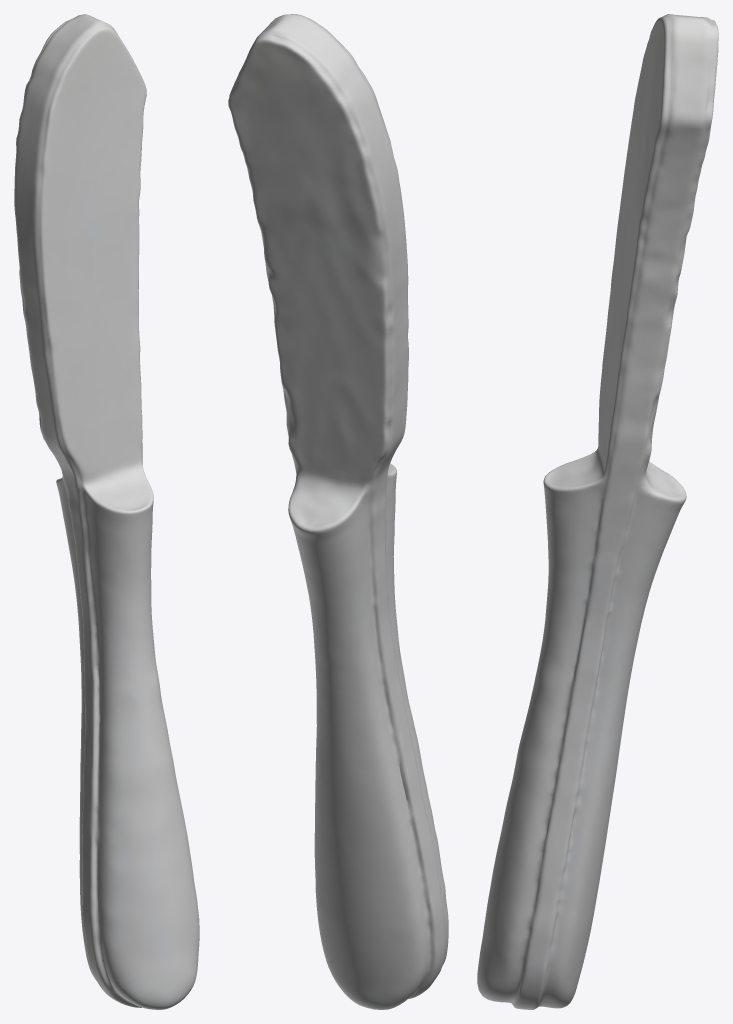
The model's file is model_butter_knife.glb.
3 views of the same model, side by side, from view 1: azimuth 30°, elevation 25°; view 2: azimuth 150°, elevation 25°; view 3: azimuth 270°, elevation 25° (orthographic). The views are drawn at different scales.
Parts seen in each view (by area): view 1: tripo_node_362d5ea6-0042-4c20-ab71-c20b0571da51; view 2: tripo_node_362d5ea6-0042-4c20-ab71-c20b0571da51; view 3: tripo_node_362d5ea6-0042-4c20-ab71-c20b0571da51.
Boxes of the visible parts, <box> form: tripo_node_362d5ea6-0042-4c20-ab71-c20b0571da51: <box>14,14,199,1009</box>; tripo_node_362d5ea6-0042-4c20-ab71-c20b0571da51: <box>228,14,448,1009</box>; tripo_node_362d5ea6-0042-4c20-ab71-c20b0571da51: <box>477,14,718,1009</box>.
Size of the model in its own units: 0.146 by 0.9995 by 0.2193.
Materials: 1 (1 with a texture image).
